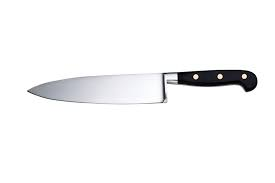knife: (26, 69, 258, 105)
